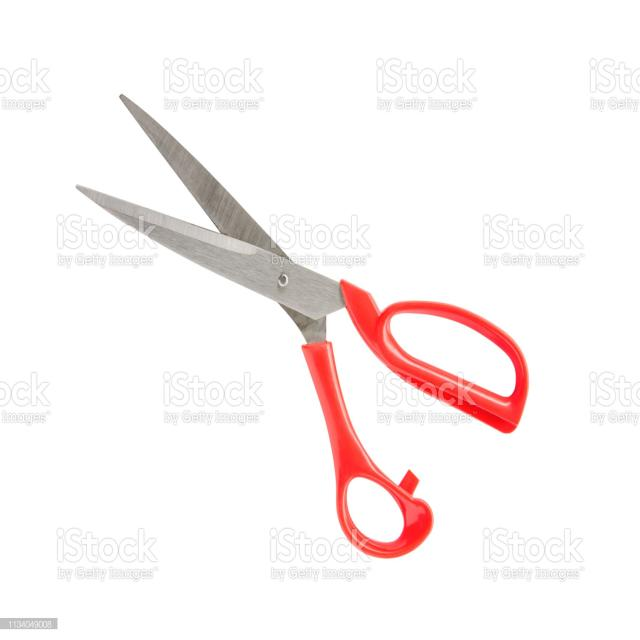Gunting: (68, 83, 542, 573)
